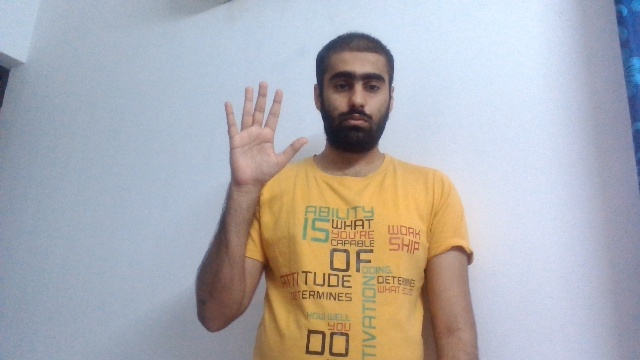paper: (223, 80, 308, 187)
